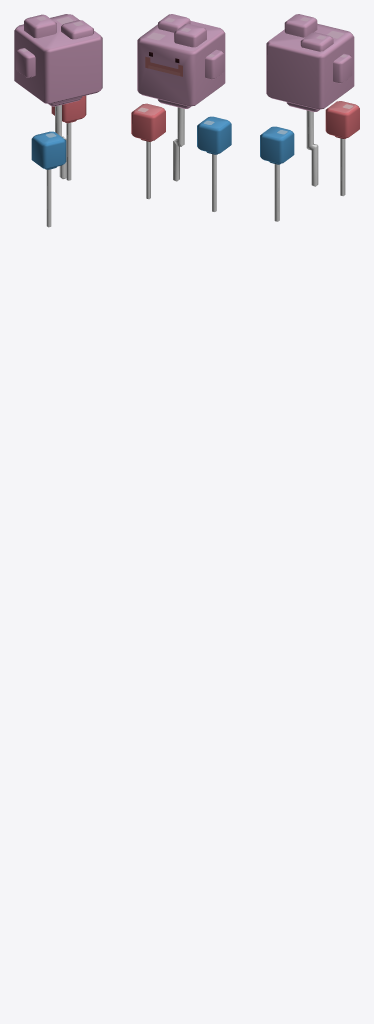
File: G_makeover_S_5.fbx
The picture shows the model from 3 angles, left to right: view 1: azimuth 30°, elevation 25°; view 2: azimuth 150°, elevation 25°; view 3: azimuth 330°, elevation 25°; orthographic projection.
Parts seen in each view (by area): view 1: metamon_model, baloon2, line, baloon1; view 2: metamon_model, line, baloon2, baloon1; view 3: metamon_model, line, baloon2, baloon1.
Boxes of the visible parts, x1=… form: metamon_model: x1=14, y1=14, x2=102, y2=106; baloon2: x1=31, y1=131, x2=66, y2=169; line: x1=46, y1=105, x2=71, y2=227; baloon1: x1=51, y1=95, x2=86, y2=123; metamon_model: x1=137, y1=14, x2=225, y2=108; line: x1=146, y1=107, x2=216, y2=211; baloon2: x1=197, y1=116, x2=231, y2=154; baloon1: x1=131, y1=103, x2=165, y2=141; metamon_model: x1=266, y1=14, x2=354, y2=111; line: x1=274, y1=110, x2=345, y2=221; baloon2: x1=260, y1=126, x2=294, y2=164; baloon1: x1=325, y1=101, x2=359, y2=138.
Size of the model in its own units: 3.03 by 37.5 by 2.55.
